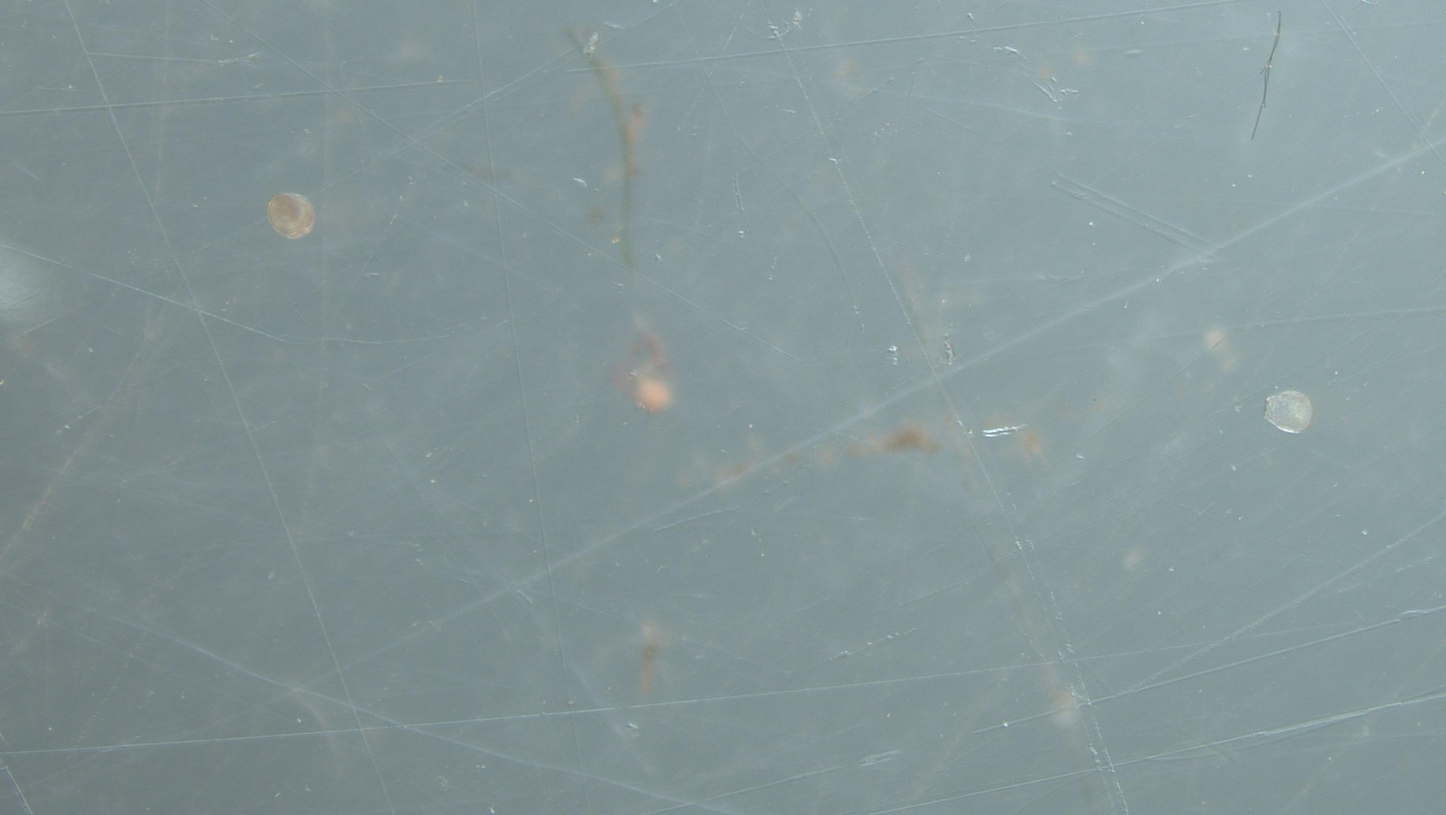dead: (1264, 391, 1314, 434)
live: (266, 193, 315, 240)
